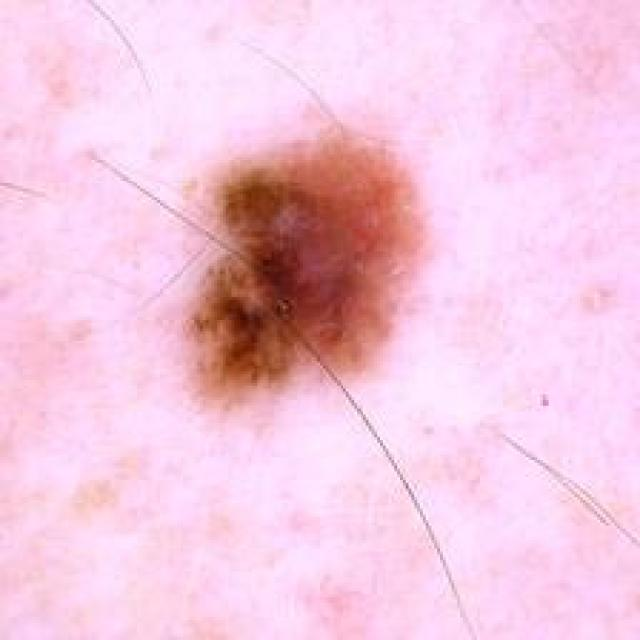Cancer: (182, 136, 440, 418)
